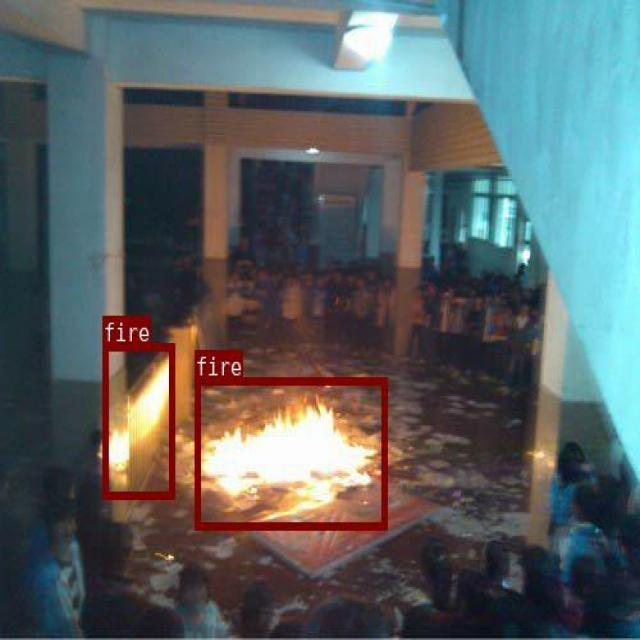fire: (195, 376, 386, 528), (102, 342, 173, 497)
